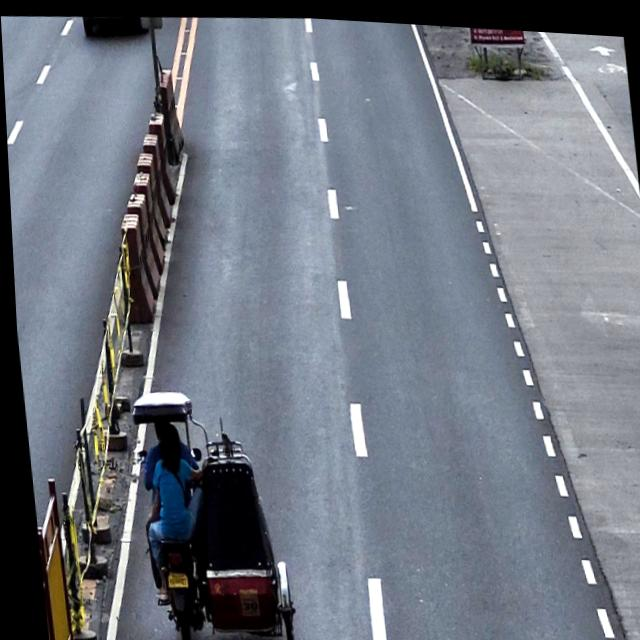License-Plate: (160, 567, 184, 588)
Tricycle: (124, 381, 294, 640)
